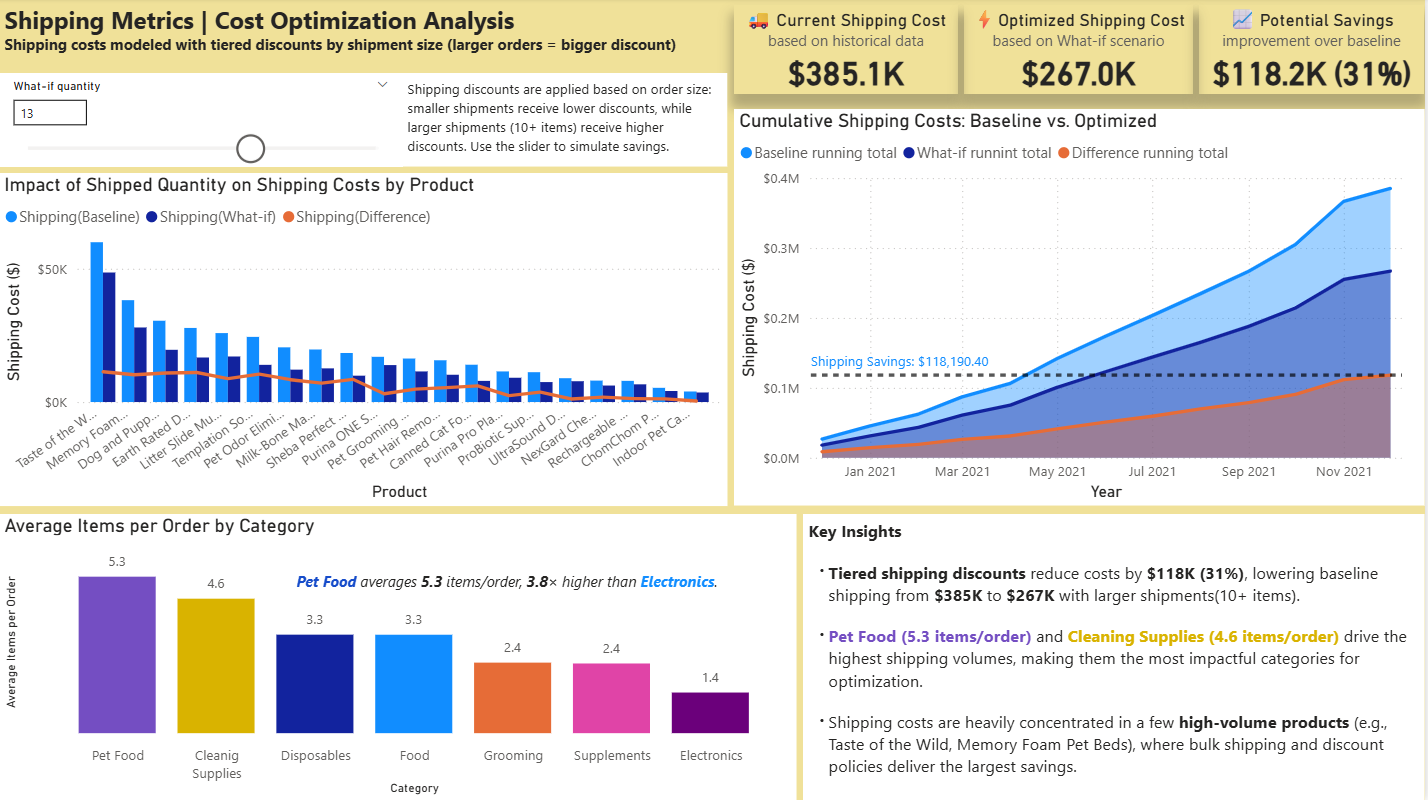

The dashboard page shown, as its layout file describes it:
{"tool":"powerbi","page":{"name":"Shipping Metrics","canvas":[1280,720],"ordinal":6},"visuals":[{"type":"slicer","fields":{"Values":["What-if quantity.What-if quantity"]},"box":[0,71.6,311,81.6],"z":0},{"type":"lineClusteredColumnComboChart","title":"Impact of Shipped Quantity on Shipping Costs by Product","fields":{"Category":["sales.Description"],"Y":["sales.Shipping(Baseline)","sales.Shipping(What-if)"],"Y2":["sales.Shipping(Difference)"]},"box":[0,163.2,653.8,305.6],"z":1000},{"type":"card","fields":{"Values":["sales.Shipping(Baseline)"]},"box":[311,71.6,329.2,81.6],"z":2000},{"type":"card","fields":{"Values":["sales.Shipping(What-if)"]},"box":[640.2,71.6,327.4,81.6],"z":3000},{"type":"card","fields":{"Values":["sales.Shipping(Difference)"]},"box":[960.3,71.6,320.1,81.6],"z":4000},{"type":"areaChart","title":"Impact of Shipped Quantity on Shipping Cost","fields":{"Category":["sales.Transaction Date.Variation.Date Hierarchy.Year","sales.Transaction Date.Variation.Date Hierarchy.Month"],"Y":["sales.Baseline running total","sales.What-fi runnint total","sales.Difference running total"]},"box":[653.8,163.2,626.6,305.6],"z":5000},{"type":"clusteredColumnChart","fields":{"Category":["products.Category"],"Y":["Avg(sales.Quantity)"]},"box":[653.8,468.8,626.6,251.2],"z":6000},{"type":"map","title":"Shipping Cost by State and Region","fields":{"Category":["state_mapping.State"],"Series":["state_mapping.Region"],"Size":["sales.Shipping(Baseline)"]},"box":[0,468.8,653.8,251.2],"z":7000},{"type":"textbox","box":[0,6.3,1280.4,65.3],"z":8000}]}

Visuals, with their boxes in screenshot pixels (x1, y1, x2, y2), scaled from the page's 1280x720 canvas onto the 1428x800 screenshot:
slicer - What-if quantity.What-if quantity: Rect(0, 80, 347, 170)
"Impact of Shipped Quantity on Shipping Costs by Product" lineClusteredColumnComboChart: Rect(0, 181, 729, 521)
card - sales.Shipping(Baseline): Rect(347, 80, 714, 170)
card - sales.Shipping(What-if): Rect(714, 80, 1079, 170)
card - sales.Shipping(Difference): Rect(1071, 80, 1427, 170)
"Impact of Shipped Quantity on Shipping Cost" areaChart: Rect(729, 181, 1427, 521)
clusteredColumnChart - products.Category x Avg(sales.Quantity): Rect(729, 521, 1427, 799)
"Shipping Cost by State and Region" map: Rect(0, 521, 729, 799)
textbox: Rect(0, 7, 1427, 80)
